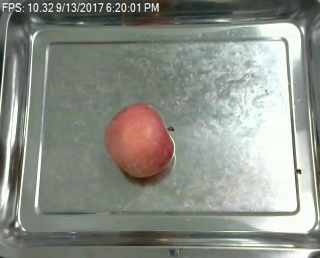Apple: (102, 99, 175, 184)
